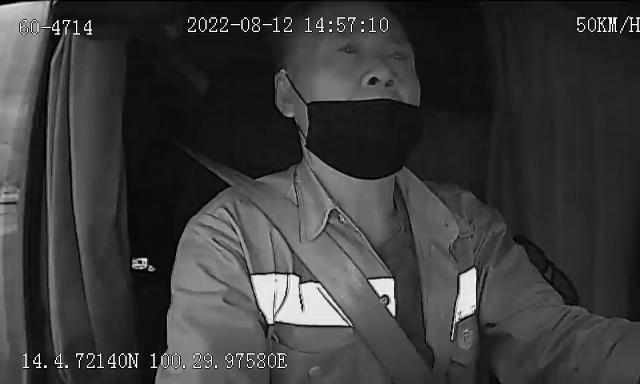SafeDriving: (379, 43, 412, 71)
Seatbelt: (192, 152, 430, 384)
